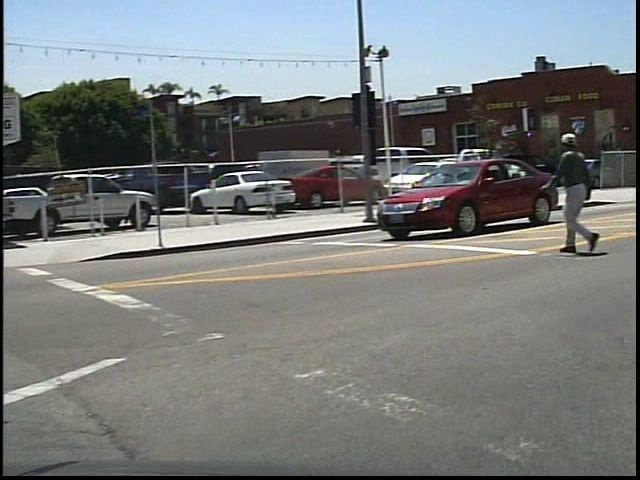person: (553, 117, 609, 260)
